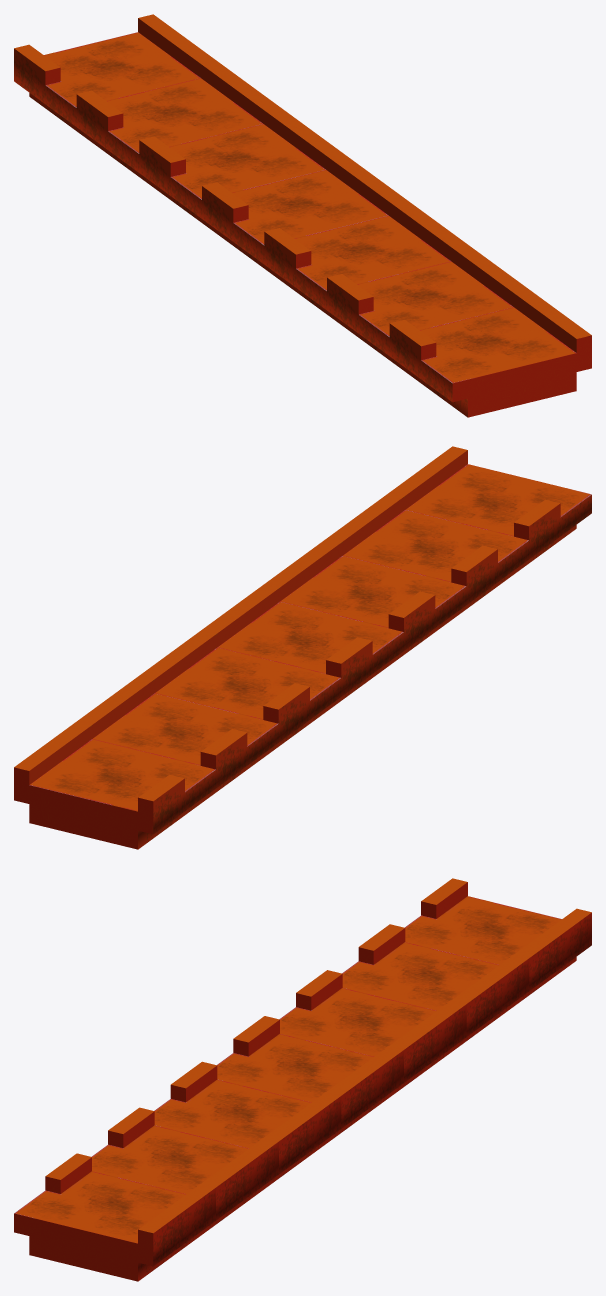
File: Tile3X6.FBX
3 renders of one model, top to bottom at view 1: azimuth 30°, elevation 25°; view 2: azimuth 150°, elevation 25°; view 3: azimuth 330°, elevation 25°, orthographic.
Visible parts, largest first — view 1: Tile011; view 2: Tile011; view 3: Tile011.
Boxes of the visible parts, box(x1,y1,x2,y2) form: Tile011: box(14, 14, 591, 417); Tile011: box(14, 446, 591, 849); Tile011: box(14, 878, 591, 1281).
Bounding box in the file's own units: 7.68 × 2.74 × 41.86.
